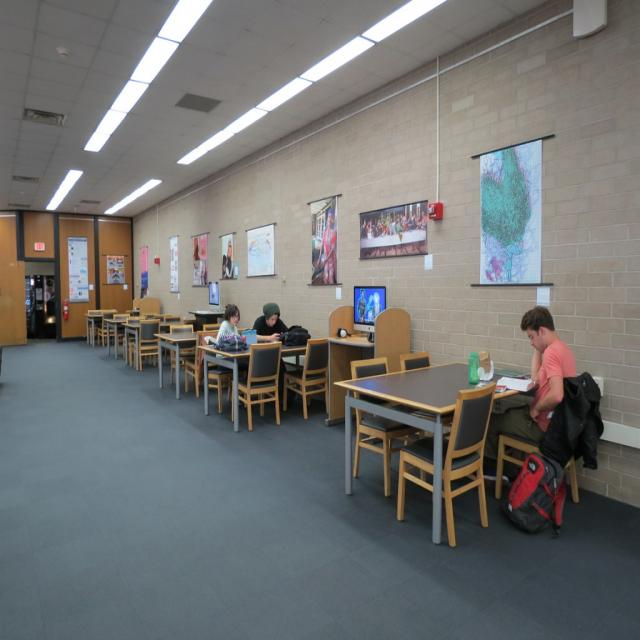chair: (397, 383, 494, 546), (348, 360, 413, 497), (235, 342, 282, 432), (283, 336, 329, 419), (202, 339, 232, 416), (136, 318, 160, 370), (400, 352, 431, 370)
desk: (352, 358, 514, 538)
person: (503, 306, 578, 444), (253, 303, 288, 339)
tv: (359, 199, 429, 258), (353, 285, 387, 327), (208, 281, 221, 307)
